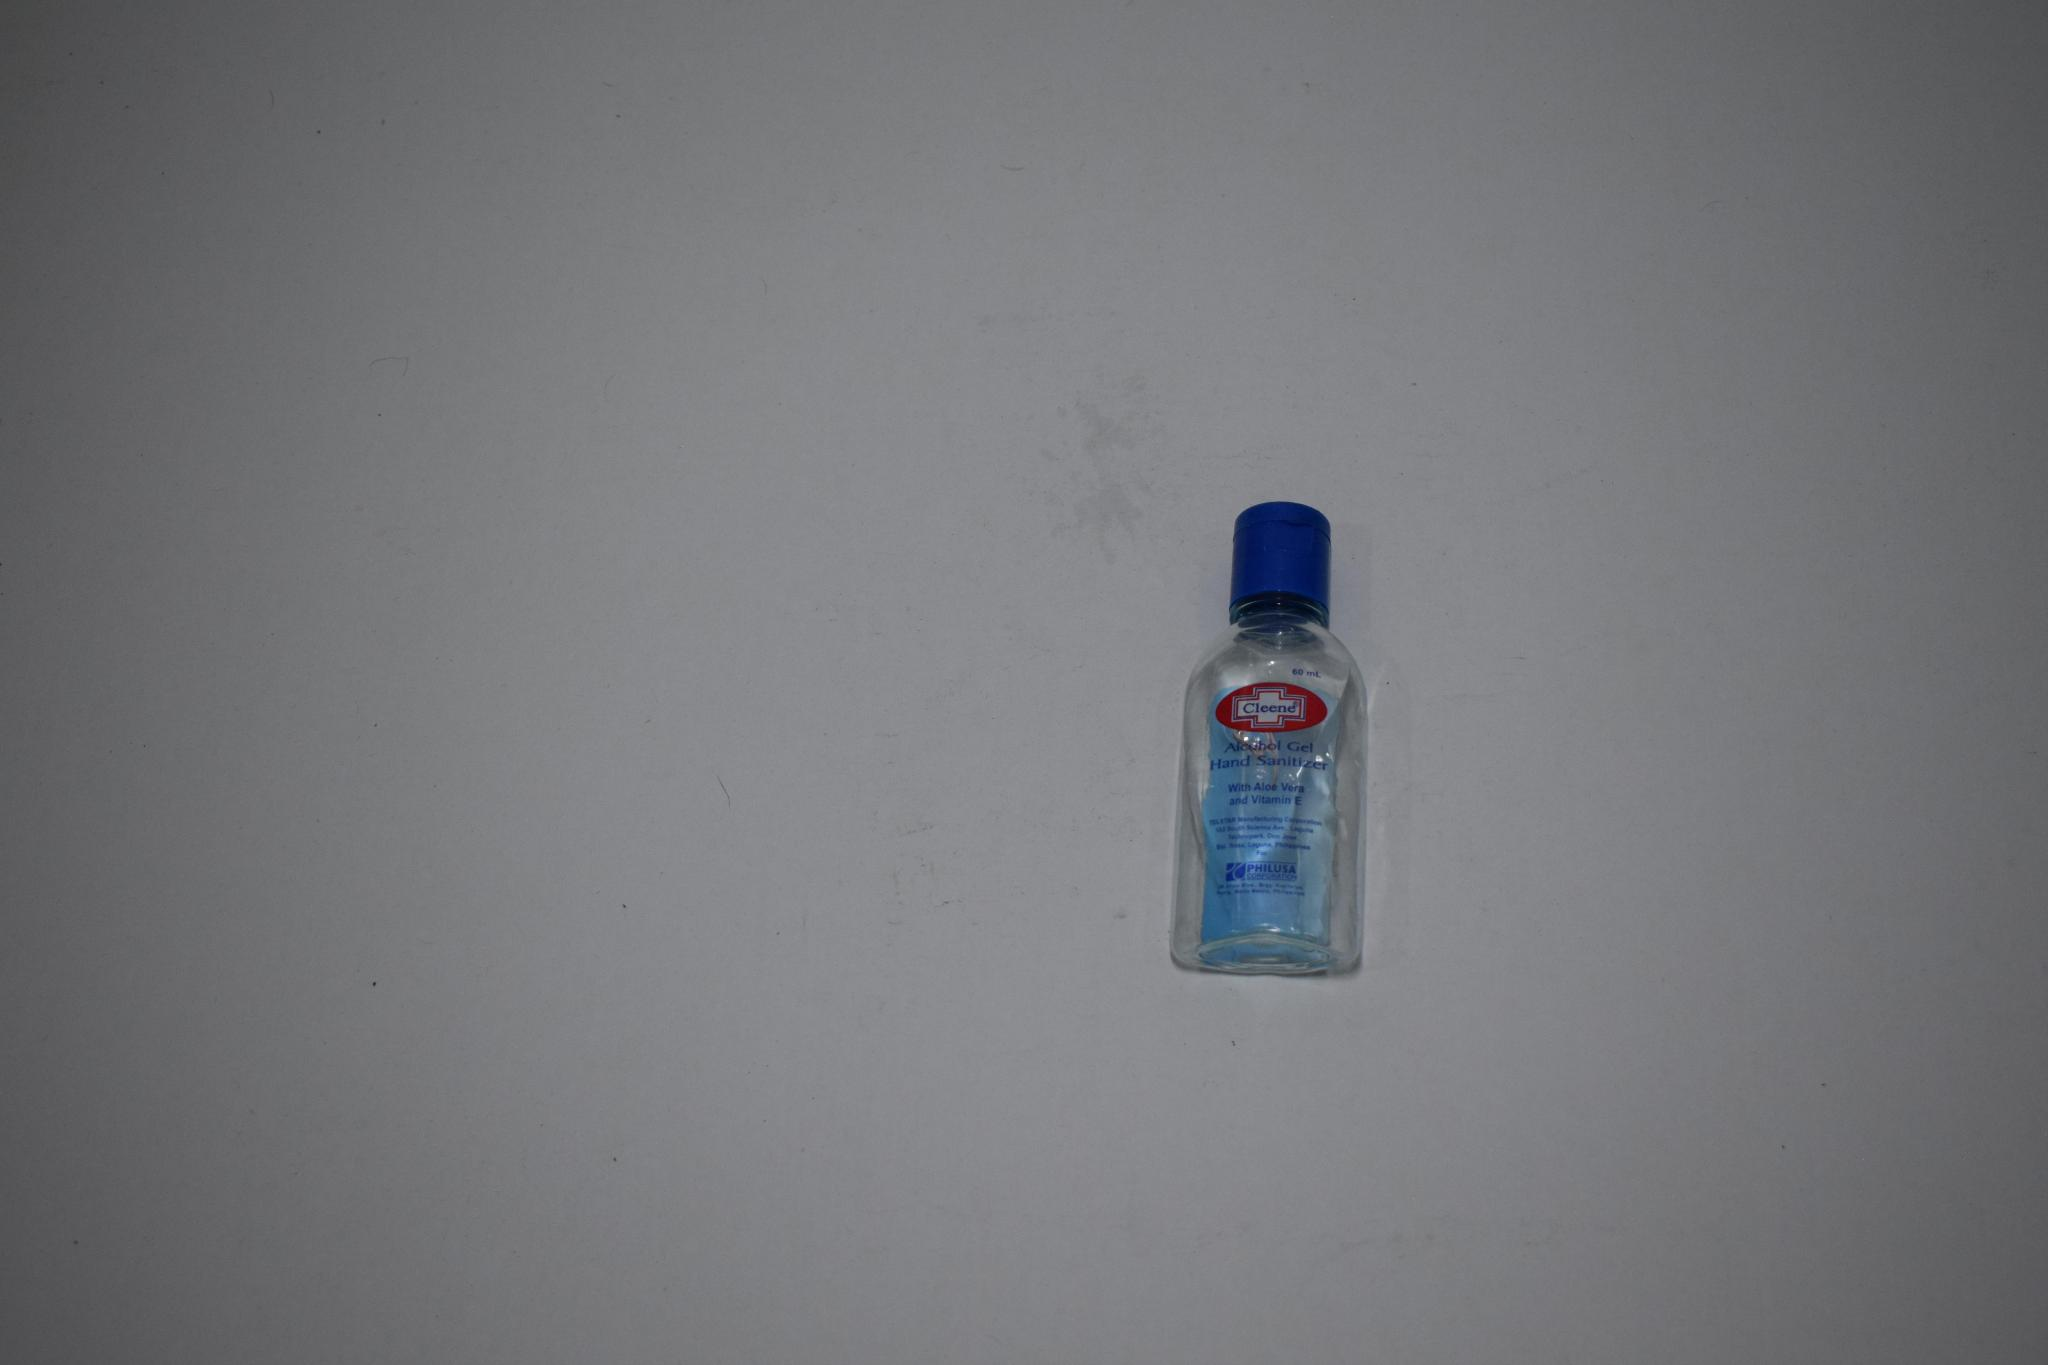bottle: (1166, 459, 1392, 1029)
